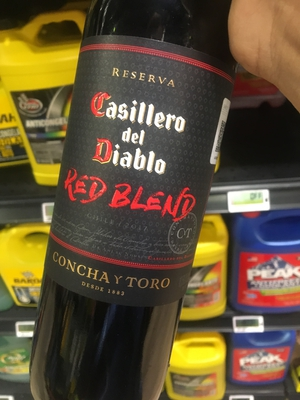casillero del diablo red blend: (37, 11, 242, 369)
